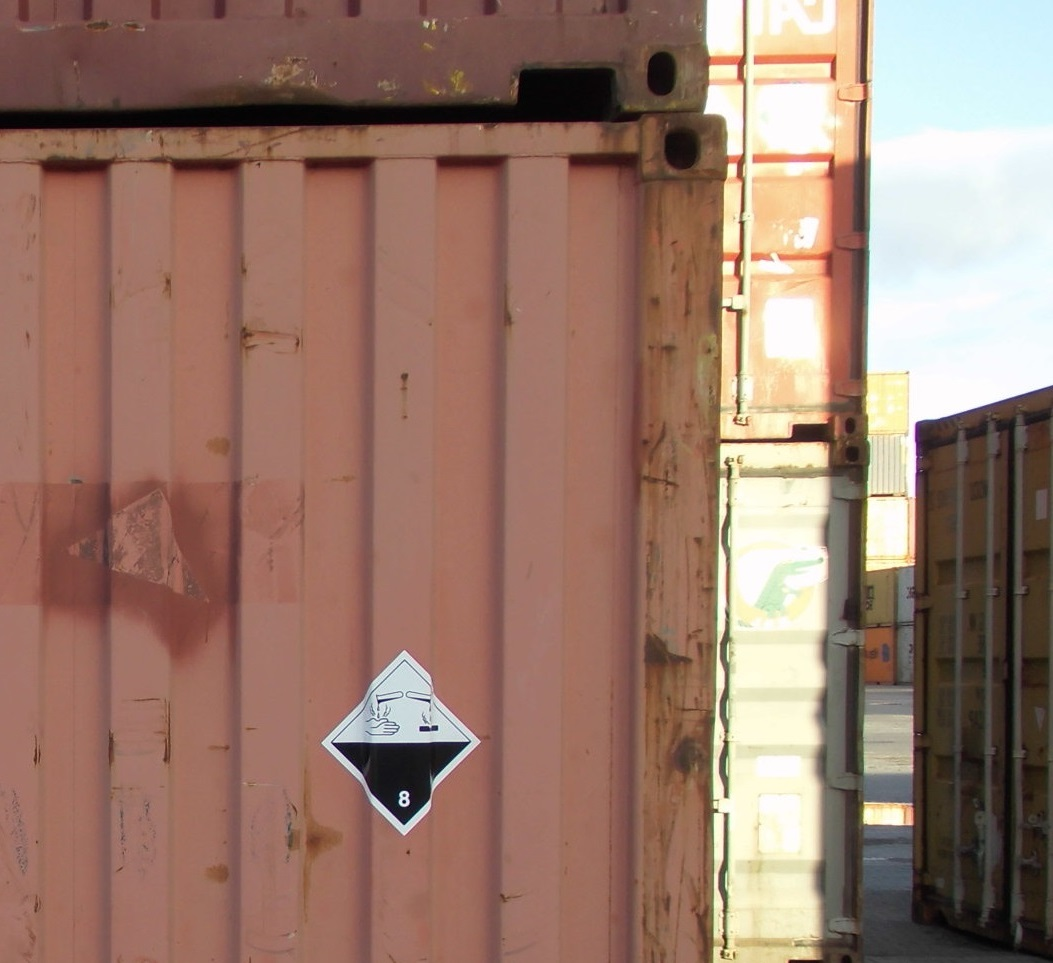container_no_door: (9, 131, 714, 963)
